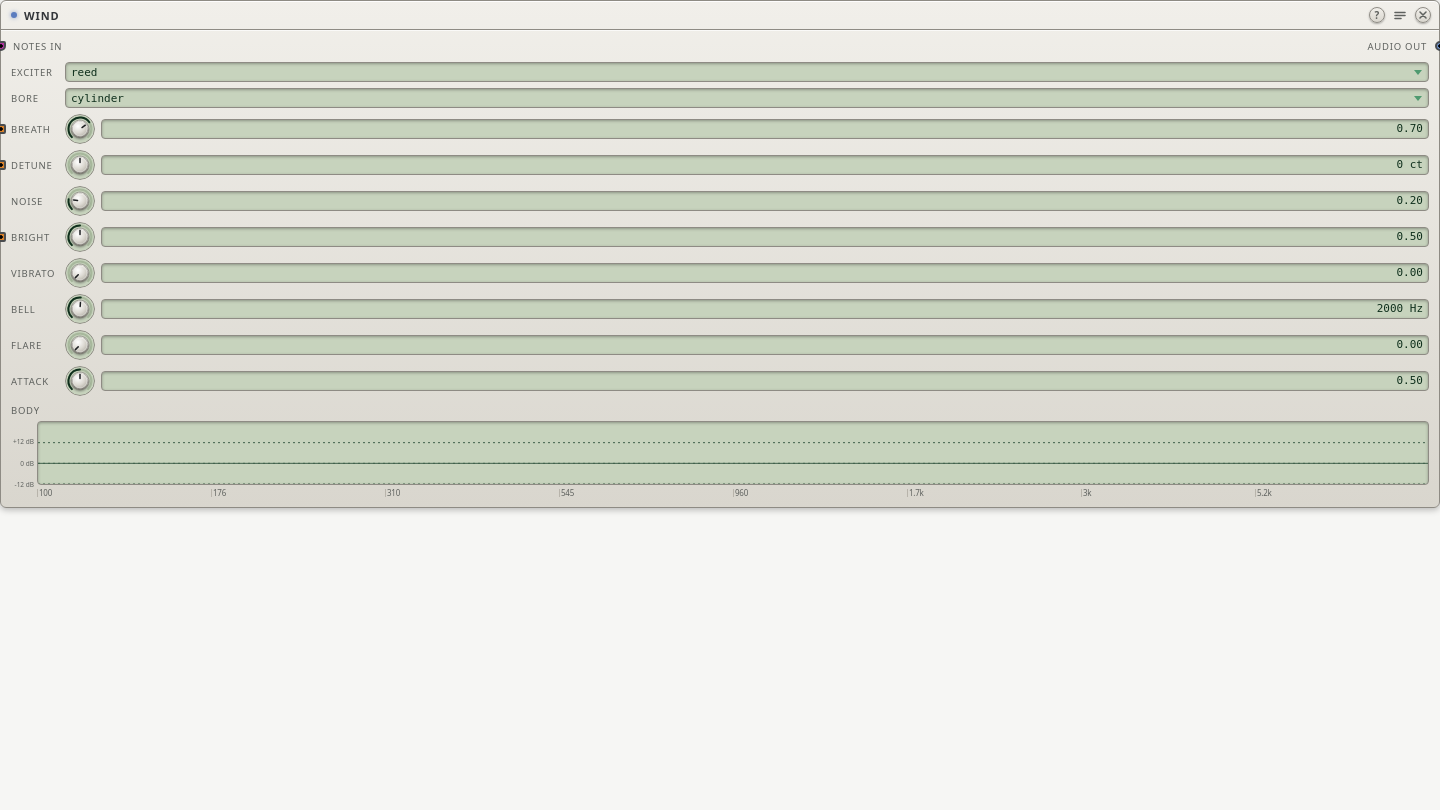
Test: PresetMenu › built in › lists the presets that come with the module before the saved ones, and loads one as one undo step
Click the button named "Presets of Wind": coordinates (1400, 15) [1392,7,1408,23]
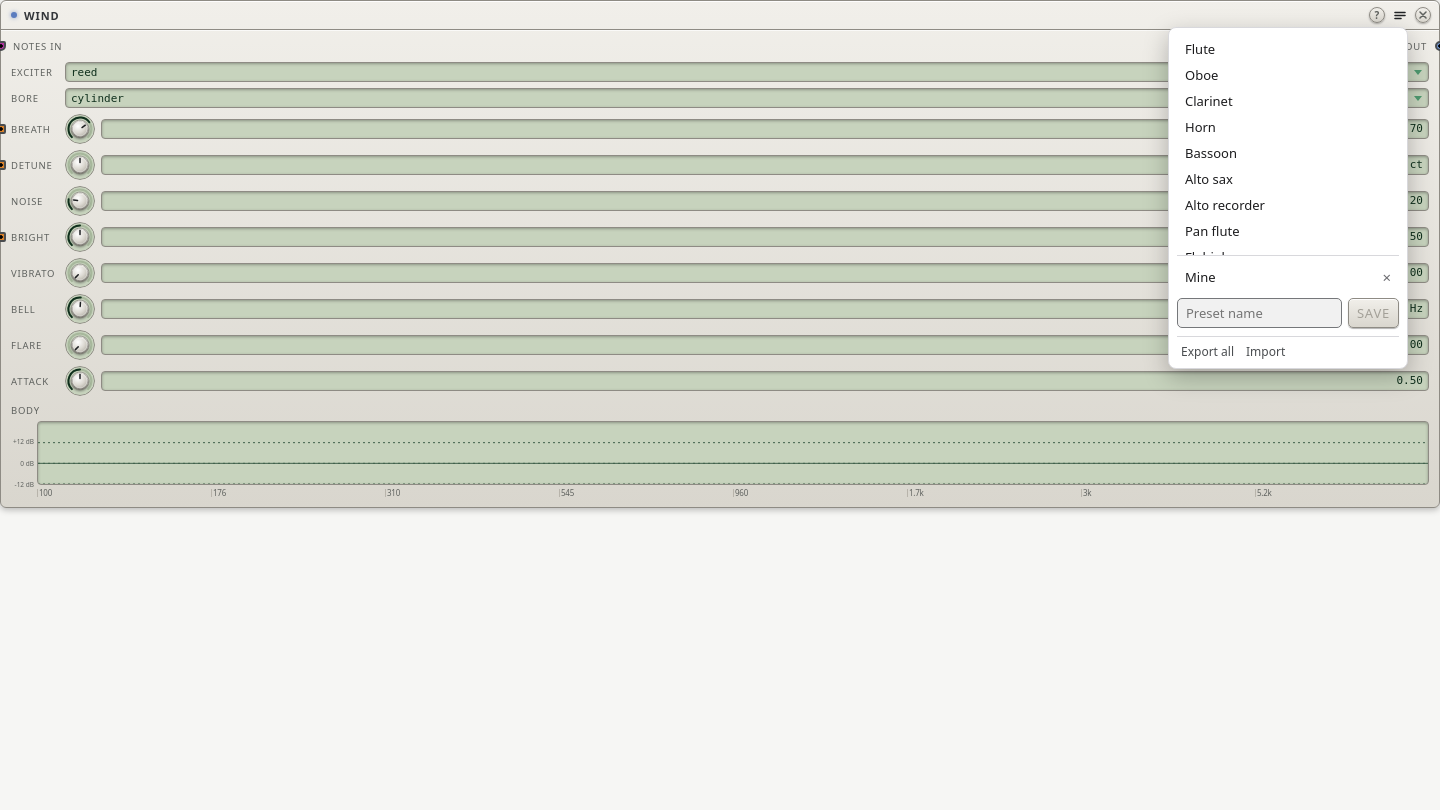
Click the button "Oboe": coordinates (1288, 75) [1177,62,1399,88]
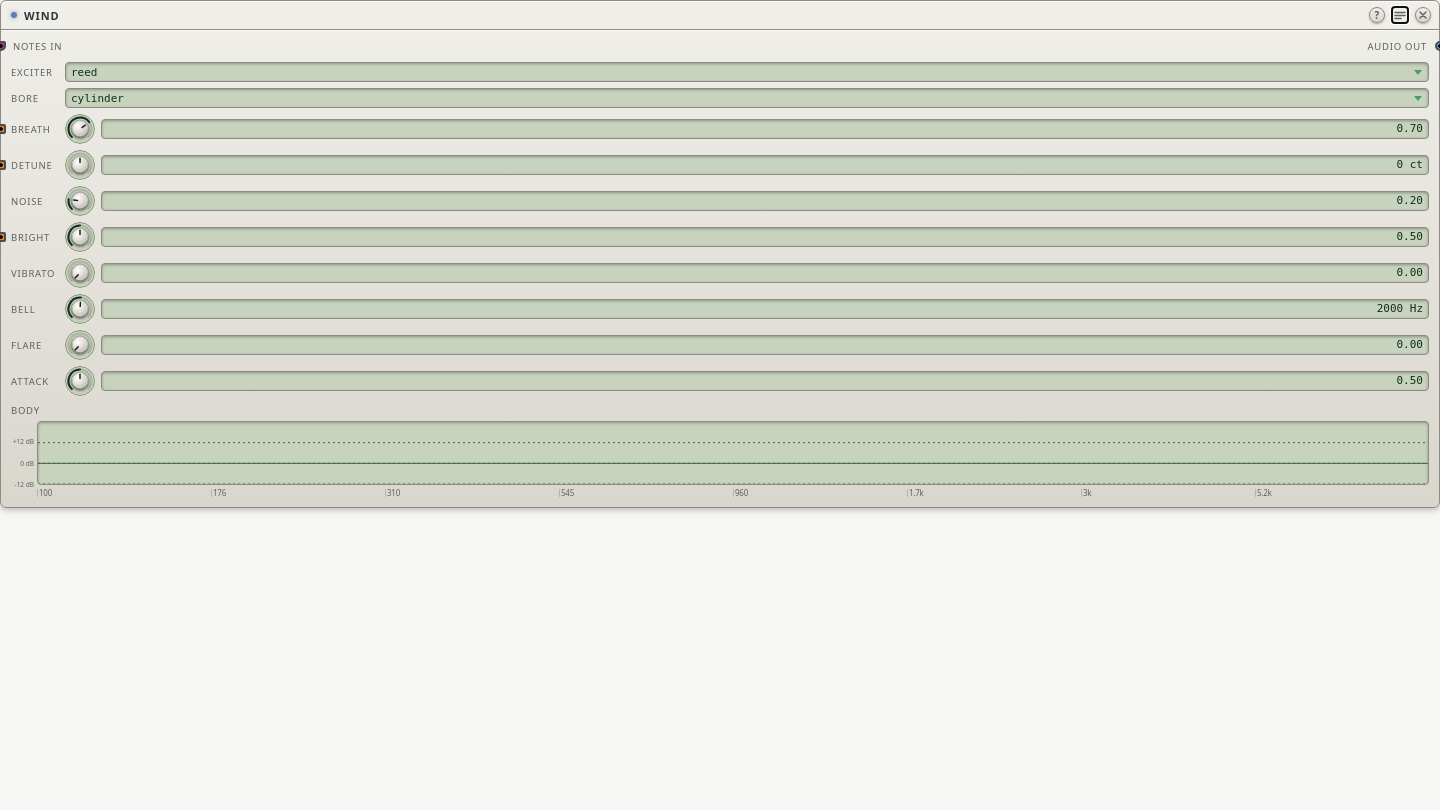
Check: the dialog is gone
